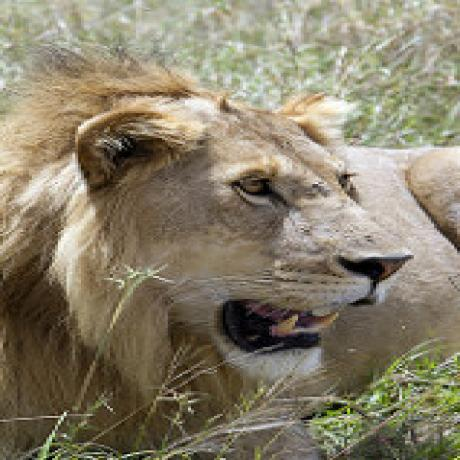Lion: (0, 49, 460, 426)
